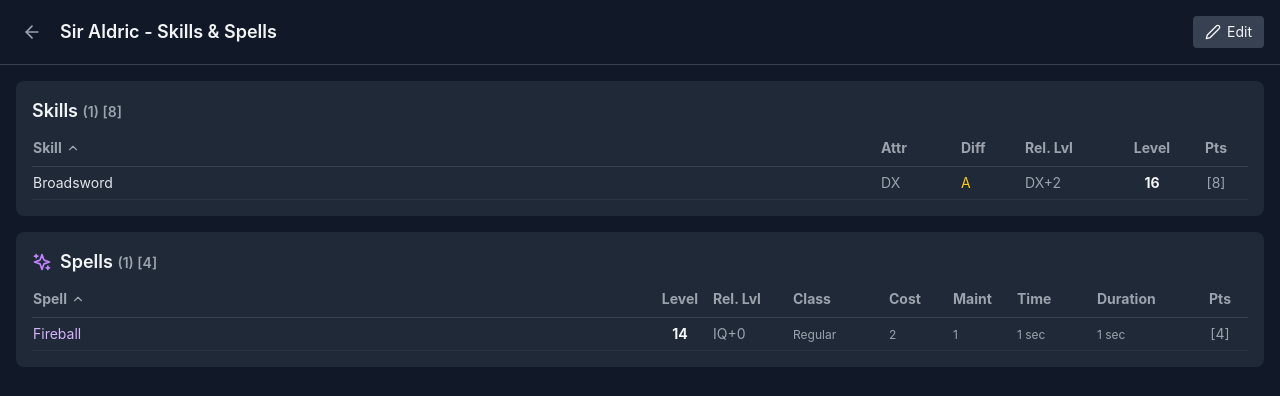
Test case: CharacterSkillsPanel › toggles to edit mode and shows Save/Cancel buttons
Click the button "Edit". click: x=1228, y=32
box: [1193,16,1264,48]
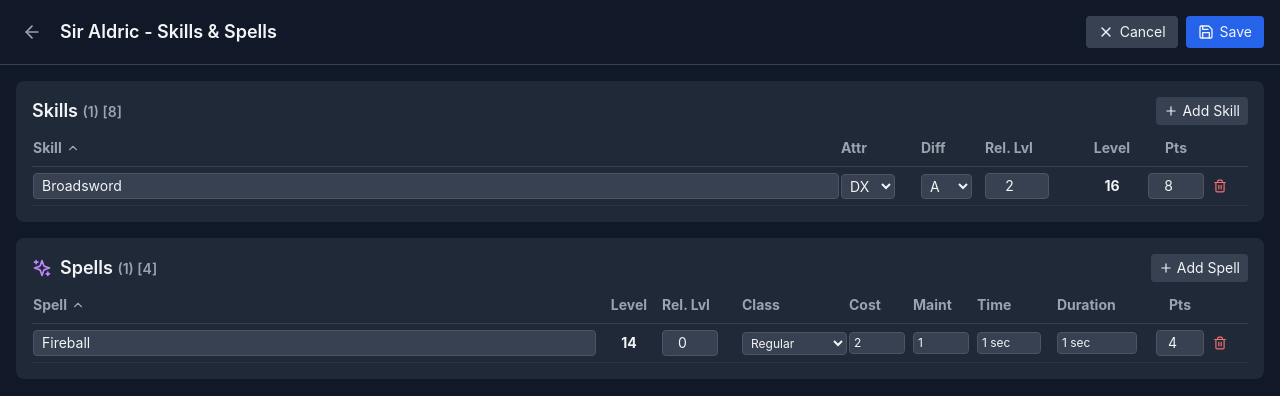
Check: the button "Save" is shown, box [1186,16,1264,48]
Check: the button "Cancel" is shown, box [1086,16,1178,48]
